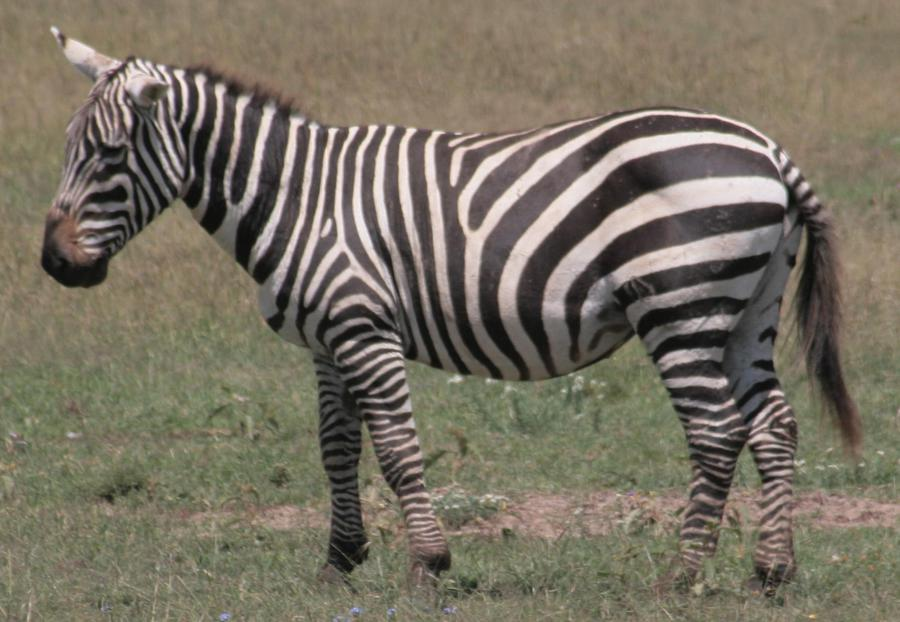zebra_plains: (228, 73, 757, 386)
